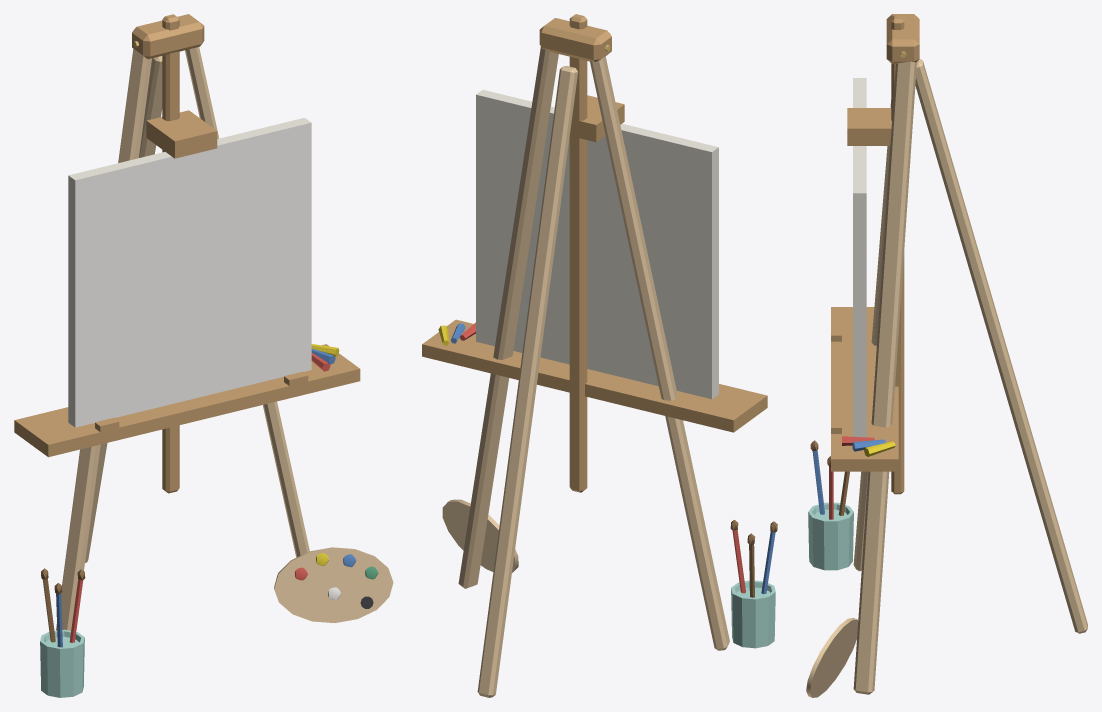
The model's file is furn_easel.glb.
3 renders of one model, left to right at view 1: azimuth 30°, elevation 25°; view 2: azimuth 150°, elevation 25°; view 3: azimuth 270°, elevation 25°, orthographic.
Visible parts, largest first — view 1: furn_easel_body; view 2: furn_easel_body; view 3: furn_easel_body.
Boxes of the visible parts, x1,y1,x2,y2 form: furn_easel_body: [14, 14, 393, 697]; furn_easel_body: [422, 14, 777, 697]; furn_easel_body: [806, 14, 1087, 697].
Bounding box in the file's own units: 0.7185 × 1.24 × 0.5158.
